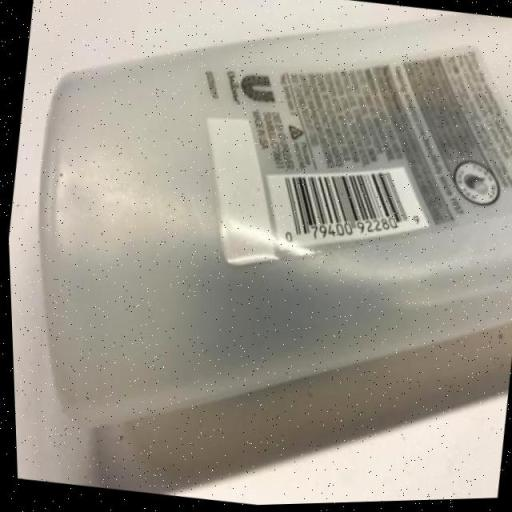plastic: (38, 23, 512, 425)
